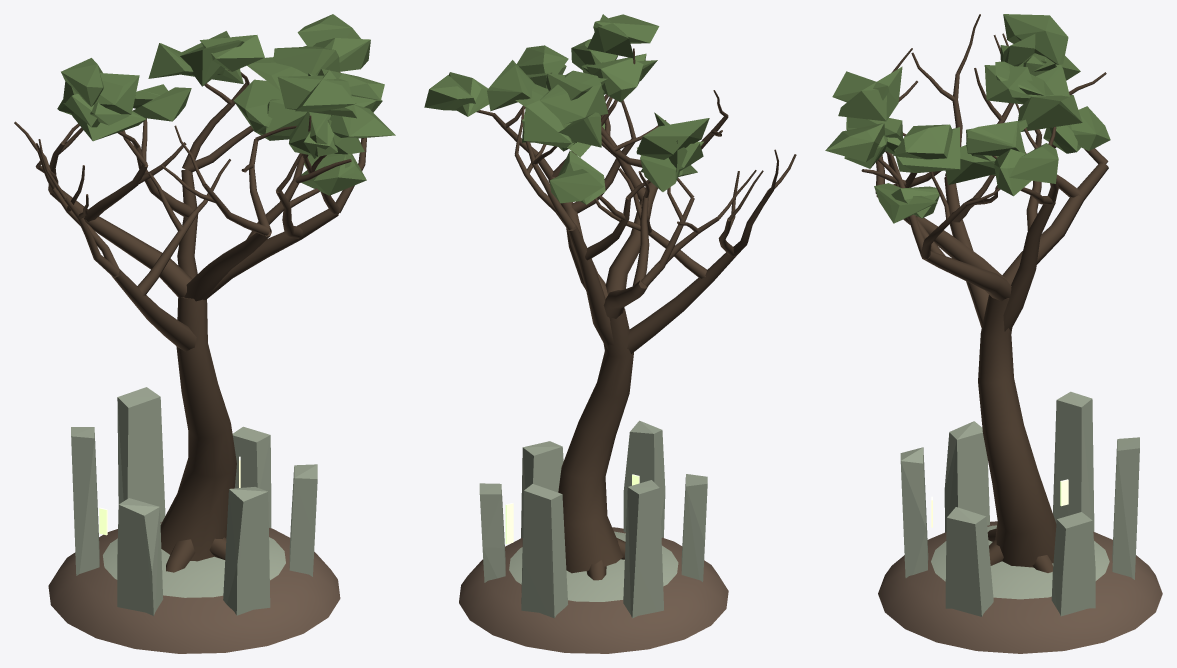
Rendered from tower_grove_2.glb.
The picture shows the model from 3 angles, left to right: view 1: azimuth 30°, elevation 25°; view 2: azimuth 150°, elevation 25°; view 3: azimuth 270°, elevation 25°; orthographic projection. The views are drawn at different scales.
Visible parts, largest first — view 1: tower; view 2: tower; view 3: tower.
Part boxes in pixels (bbox=[...]): tower: bbox=[14, 14, 395, 653]; tower: bbox=[424, 14, 796, 653]; tower: bbox=[825, 14, 1162, 653].
Size of the model in its own units: 2.73 by 4.18 by 2.37.
